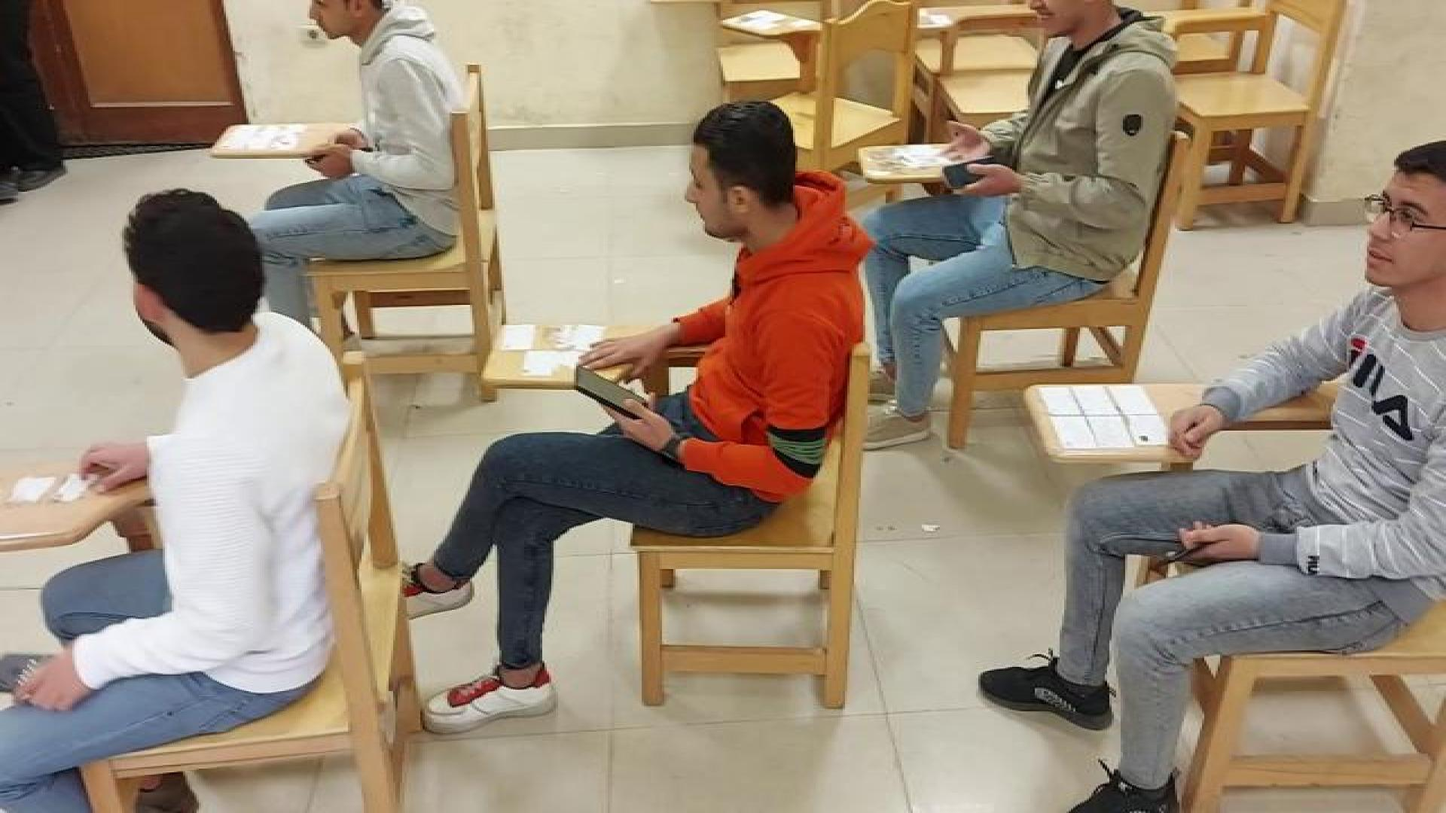phone: (565, 363, 662, 420), (939, 154, 1007, 198)
